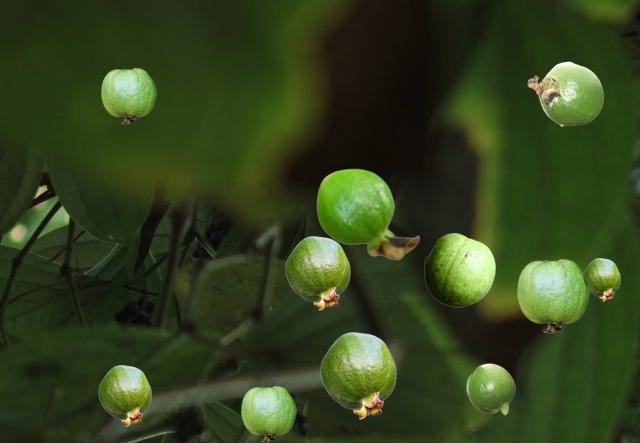guava: (316, 168, 419, 259), (320, 332, 395, 418), (517, 259, 588, 332), (424, 233, 494, 306), (527, 61, 603, 125), (285, 236, 349, 309), (98, 365, 150, 425), (241, 386, 295, 441), (101, 68, 155, 123), (466, 363, 514, 414), (583, 258, 619, 300)
